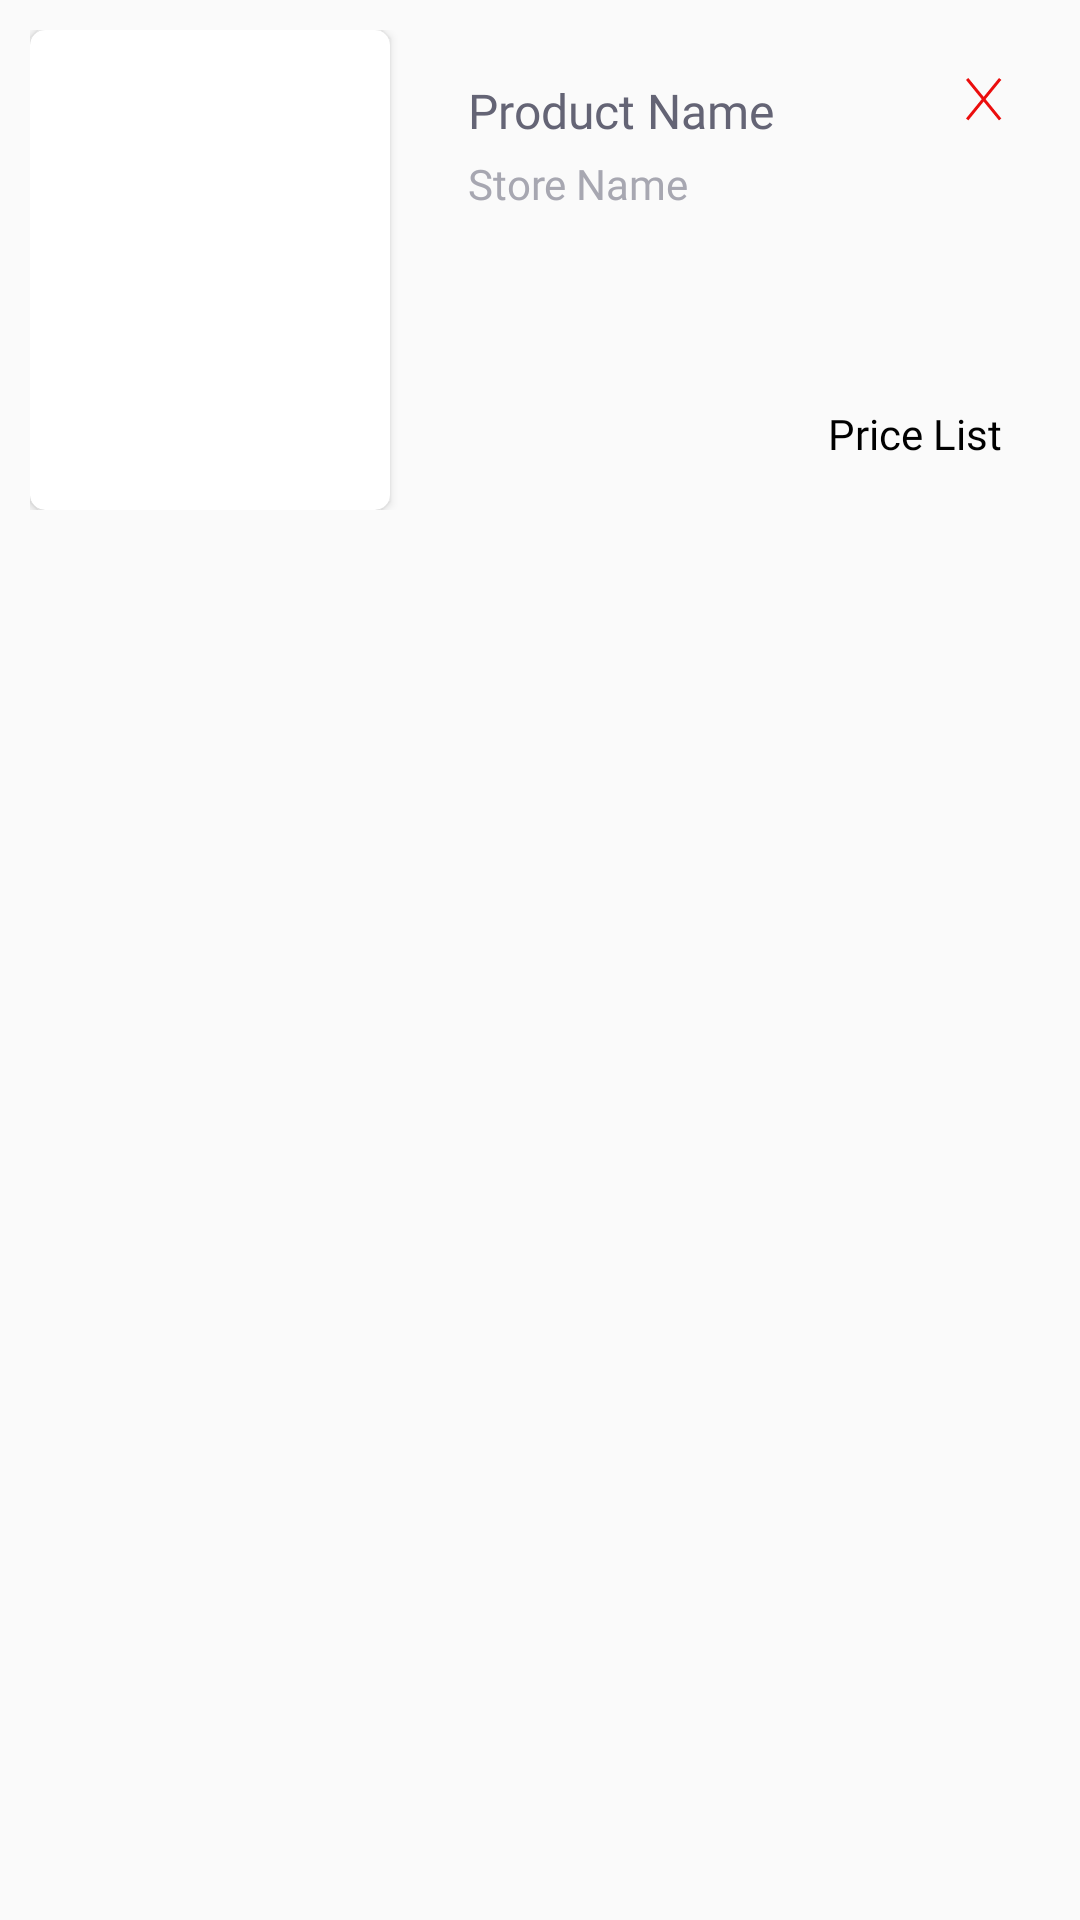

Screen size 1080px x 1920px. Icon name, then its center in pixels as (x,y):
xicon: (984,99)
